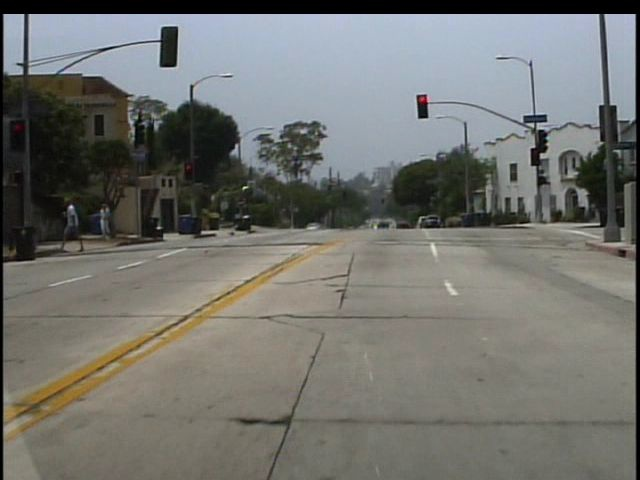person: (63, 192, 90, 251), (104, 202, 118, 242)
